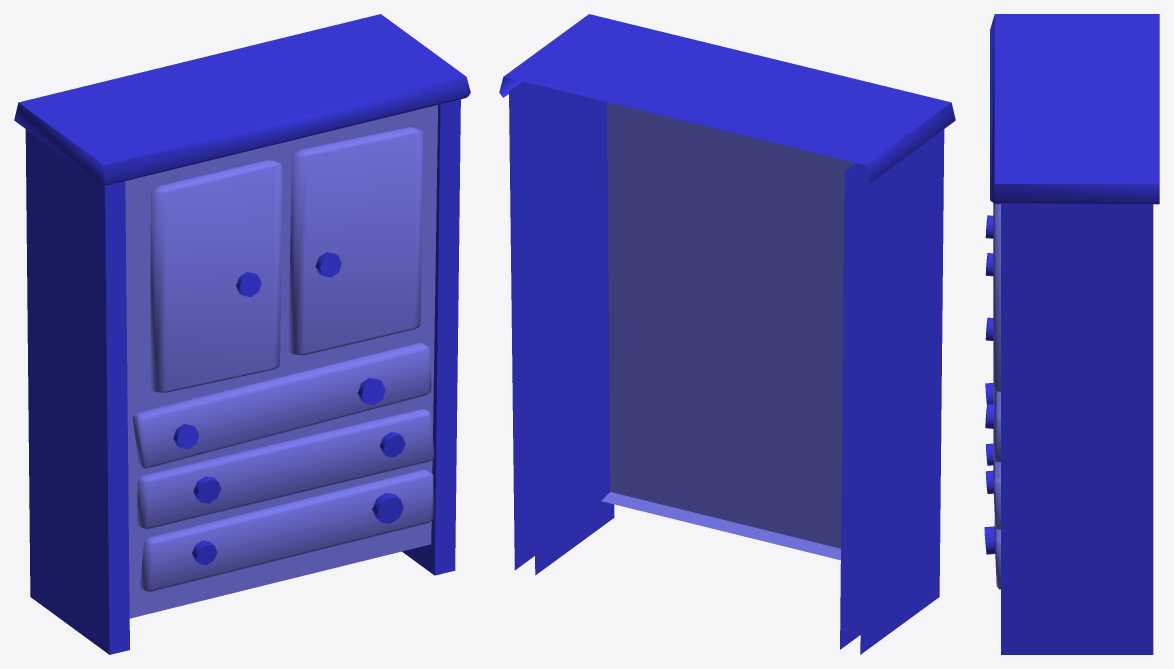
File: ChestDrawersHigh.FBX
The picture shows the model from 3 angles, left to right: view 1: azimuth 30°, elevation 25°; view 2: azimuth 150°, elevation 25°; view 3: azimuth 270°, elevation 25°; orthographic projection. The views are drawn at different scales.
Parts seen in each view (by area): view 1: ChestDrawersHigh; view 2: ChestDrawersHigh; view 3: ChestDrawersHigh.
Part boxes in pixels (x1,y1,x2,y2): ChestDrawersHigh: (14, 14, 470, 654); ChestDrawersHigh: (499, 14, 955, 654); ChestDrawersHigh: (984, 14, 1159, 654).
Bounding box in the file's own units: 5.28 × 6.73 × 2.25.
